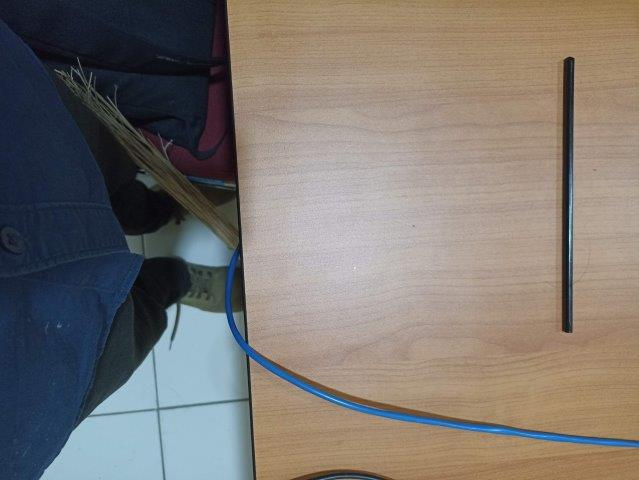sedotan: (562, 58, 575, 332)
